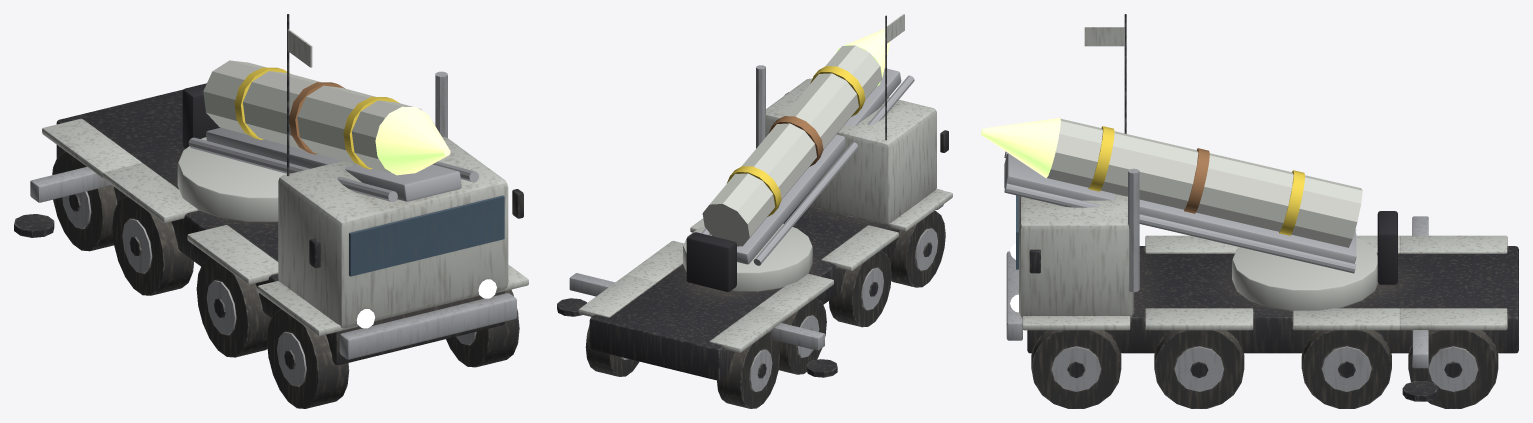
The model's file is scud.glb.
3 views of the same model, side by side, from view 1: azimuth 30°, elevation 25°; view 2: azimuth 150°, elevation 25°; view 3: azimuth 270°, elevation 25° (orthographic). The views are drawn at different scales.
Visible parts, largest first — view 1: Hull, Turret; view 2: Hull, Turret; view 3: Hull, Turret.
Boxes of the visible parts, bbox=[...] form: Hull: bbox=[14, 14, 528, 408]; Turret: bbox=[177, 60, 478, 221]; Hull: bbox=[557, 14, 952, 408]; Turret: bbox=[683, 29, 914, 291]; Hull: bbox=[1006, 14, 1518, 408]; Turret: bbox=[981, 118, 1397, 311].
Bounding box in the file's own units: 4.42 × 4.29 × 6.56.
13 materials, 6 textured.
